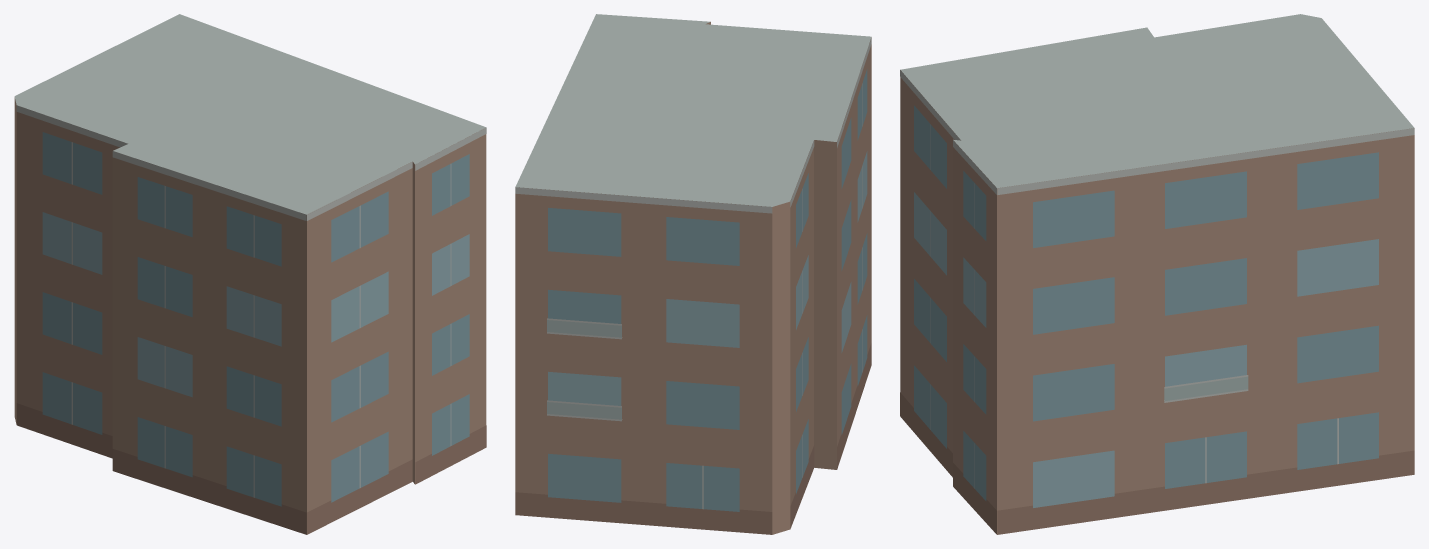
Rendered from survey-upis-32767395.glb.
3 views of the same model, side by side, from view 1: azimuth 30°, elevation 25°; view 2: azimuth 150°, elevation 25°; view 3: azimuth 270°, elevation 25° (orthographic). The views are drawn at different scales.
Parts seen in each view (by area): view 1: survey-upis-32767395.tmp; view 2: survey-upis-32767395.tmp; view 3: survey-upis-32767395.tmp.
Part boxes in pixels (box(x1,y1,x2,y2)): survey-upis-32767395.tmp: box(14, 14, 486, 534); survey-upis-32767395.tmp: box(515, 14, 871, 534); survey-upis-32767395.tmp: box(900, 14, 1414, 534).
Size of the model in its own units: 13 by 12.05 by 16.21.
